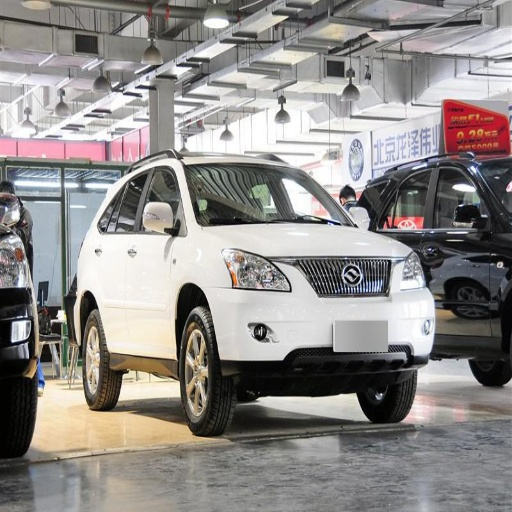back_left_light: (93, 163, 154, 351)
back_right_light: (212, 257, 433, 373)
front_bumper: (186, 164, 280, 222)
front_left_door: (366, 253, 424, 294)
front_left_light: (127, 162, 182, 353), (285, 172, 332, 222)
front_right_door: (222, 247, 290, 292)
front_right_light: (226, 225, 408, 259)
trunk: (180, 302, 231, 436), (80, 310, 119, 410), (357, 369, 415, 422), (0, 381, 38, 456), (474, 356, 510, 382)
